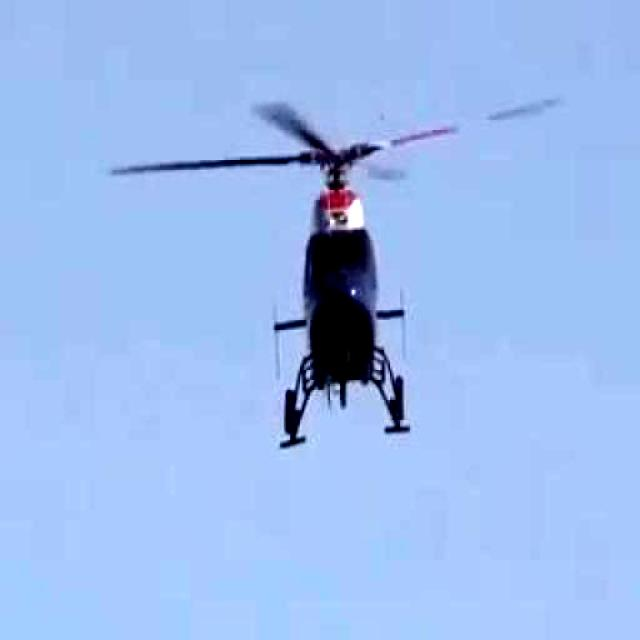drone: (155, 60, 529, 468)
